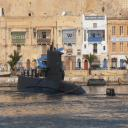submarine: (17, 45, 89, 96)
